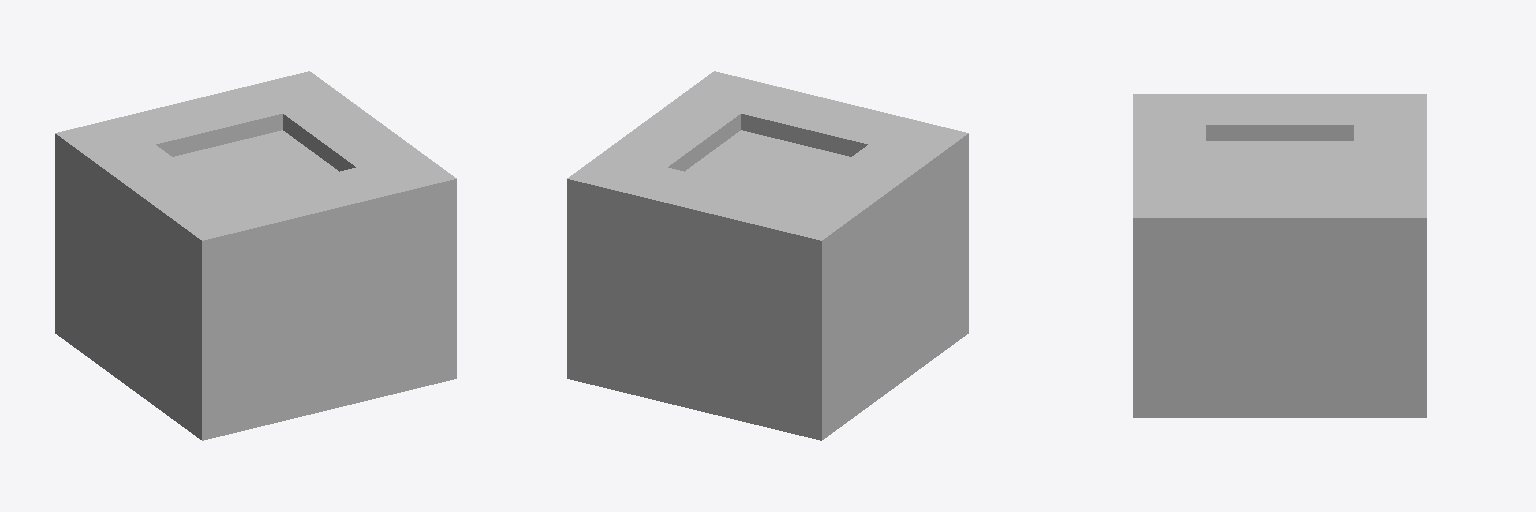
The model's file is persistiumInfuser.obj.
3 renders of one model, left to right at view 1: azimuth 30°, elevation 25°; view 2: azimuth 150°, elevation 25°; view 3: azimuth 270°, elevation 25°, orthographic.
Parts seen in each view (by area): view 1: base, door2, door1; view 2: base, door1, door2; view 3: base, door1, door2.
Part boxes in pixels (left/top/right/bottom): base: left=55, top=71, right=456, bottom=440; door2: left=173, top=130, right=318, bottom=183; door1: left=210, top=157, right=338, bottom=197; base: left=567, top=71, right=968, bottom=440; door1: left=705, top=130, right=850, bottom=183; door2: left=685, top=157, right=813, bottom=197; base: left=1133, top=94, right=1426, bottom=417; door1: left=1206, top=141, right=1279, bottom=186; door2: left=1280, top=141, right=1353, bottom=186.
Bounding box in the file's own units: 1 × 0.7501 × 1.